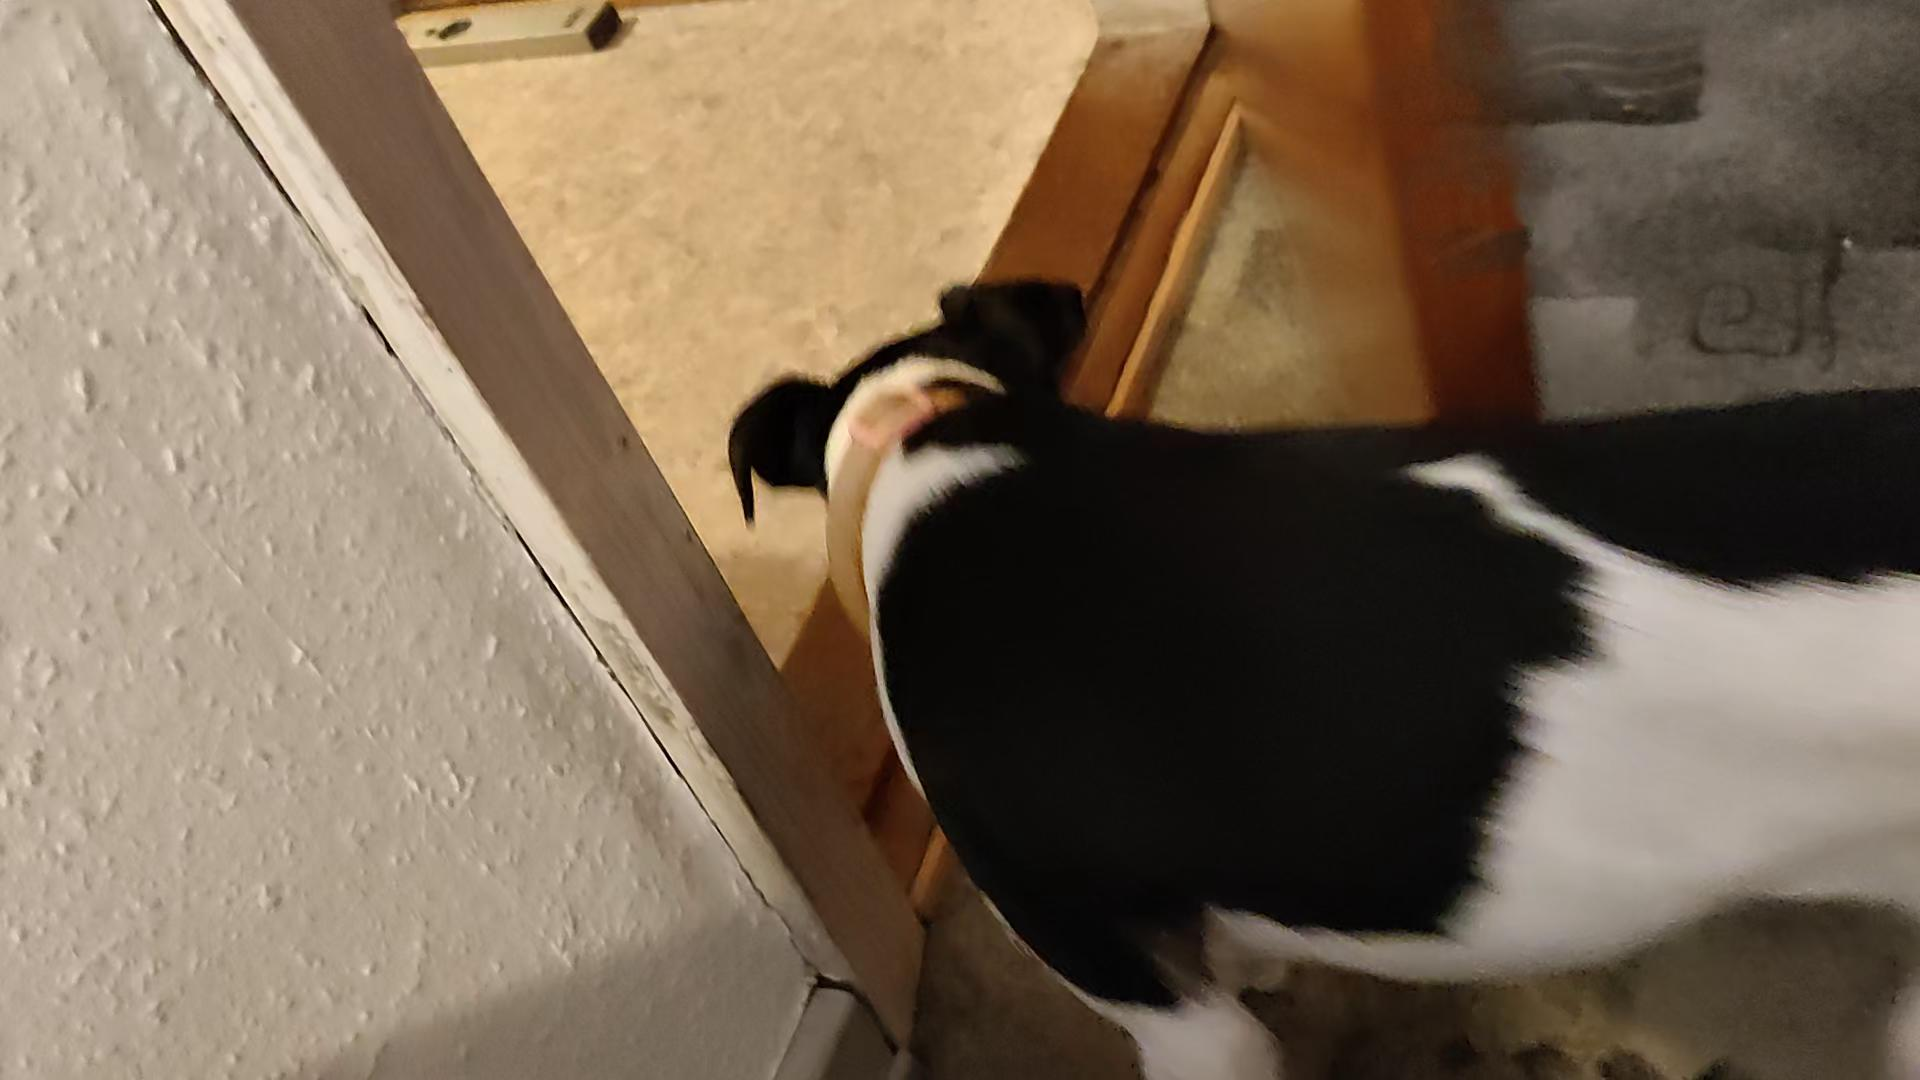Dog: (679, 229, 1919, 1079)
